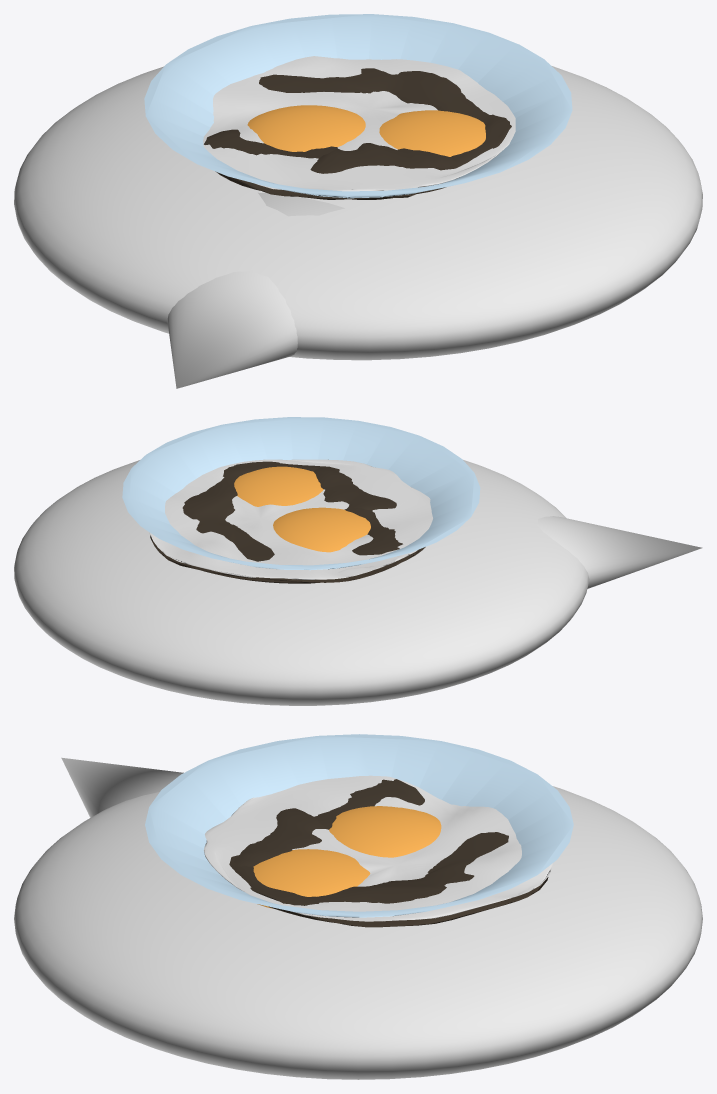
The model's file is eggreq.fbx.
The picture shows the model from 3 angles, top to bottom: view 1: azimuth 30°, elevation 25°; view 2: azimuth 150°, elevation 25°; view 3: azimuth 270°, elevation 25°; orthographic projection. The views are drawn at different scales.
Visible parts, largest first — view 1: Sphere.001, Cylinder.012, Sphere.011, Cone, Sphere.016, Sphere.012, Sphere.013; view 2: Sphere.001, Cylinder.012, Sphere.011, Sphere.016, Cone, Sphere.012, Sphere.013; view 3: Sphere.001, Cylinder.012, Sphere.011, Sphere.016, Sphere.012, Sphere.013, Cone.
Boxes of the visible parts, left/top/right/bottom form: Sphere.001: left=14, top=66, right=702, bottom=360; Cylinder.012: left=144, top=14, right=572, bottom=198; Sphere.011: left=203, top=56, right=515, bottom=191; Cone: left=167, top=192, right=344, bottom=388; Sphere.016: left=204, top=68, right=511, bottom=199; Sphere.012: left=247, top=105, right=365, bottom=151; Sphere.013: left=379, top=110, right=485, bottom=156; Sphere.001: left=14, top=460, right=589, bottom=705; Cylinder.012: left=122, top=417, right=480, bottom=570; Sphere.011: left=149, top=459, right=432, bottom=579; Sphere.016: left=150, top=461, right=425, bottom=583; Cone: left=536, top=516, right=702, bottom=588; Sphere.012: left=273, top=507, right=370, bottom=552; Sphere.013: left=234, top=466, right=323, bottom=506; Sphere.001: left=14, top=786, right=702, bottom=1079; Cylinder.012: left=145, top=734, right=573, bottom=917; Sphere.011: left=203, top=775, right=552, bottom=921; Sphere.016: left=229, top=779, right=548, bottom=927; Sphere.012: left=329, top=806, right=441, bottom=857; Sphere.013: left=253, top=849, right=370, bottom=908; Cone: left=61, top=757, right=183, bottom=817.
Bounding box in the file's own units: 339 × 84.36 × 322.
